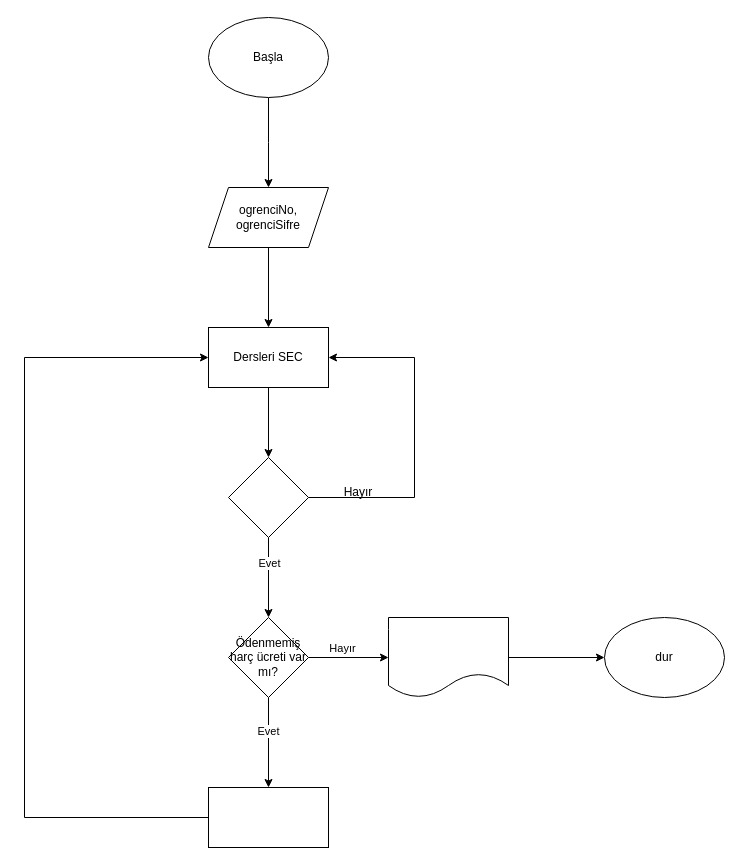
Some shapes in this 742 by 865 pixel diagram are drawn without their labels. Each missing label, with the centre of its shape:
AKTS doldu mu?: (x=268, y=497)
Hrç ücretini yatır.: (x=268, y=817)
Kayıt Başarılı!: (x=448, y=657)
